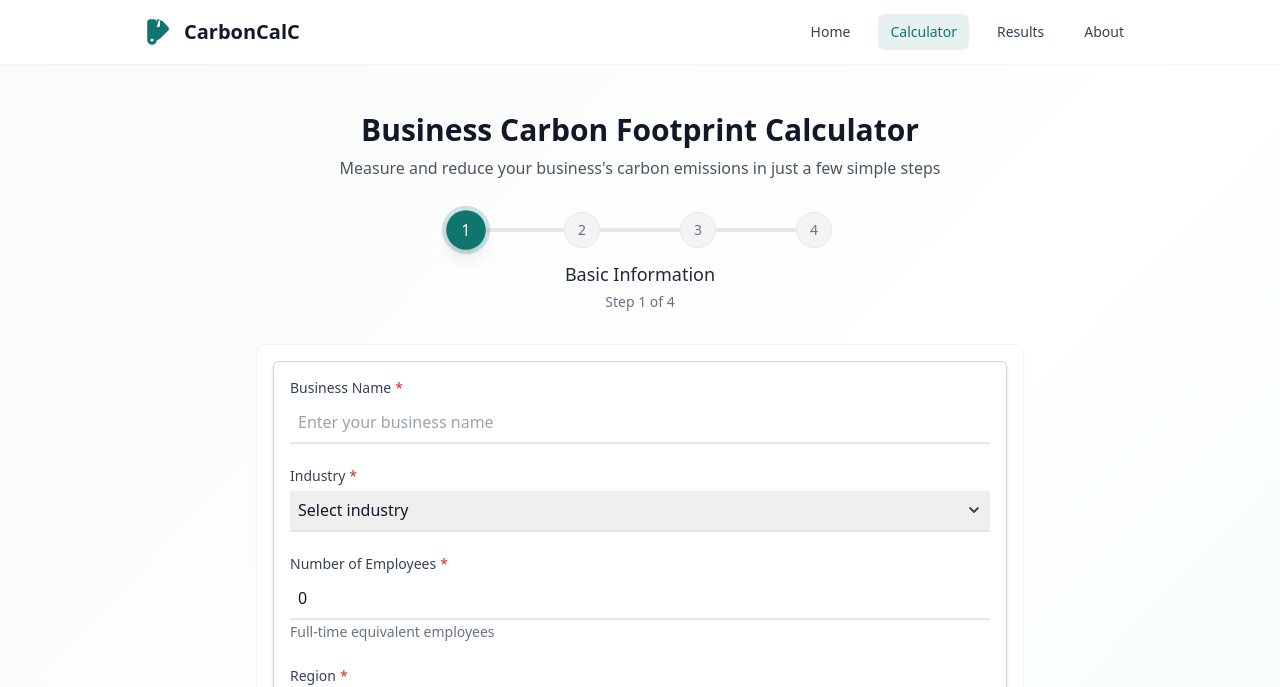
Edge Cases and Boundary Values › should handle special characters in business name
Type "Special & Chars (Corp) #123" into the field with id "name". click: (640, 422)
box: [290,402,990,442]
Select "Technology / IT" in the dropdown with id "industry". click: (640, 510)
box: [290,490,990,530]
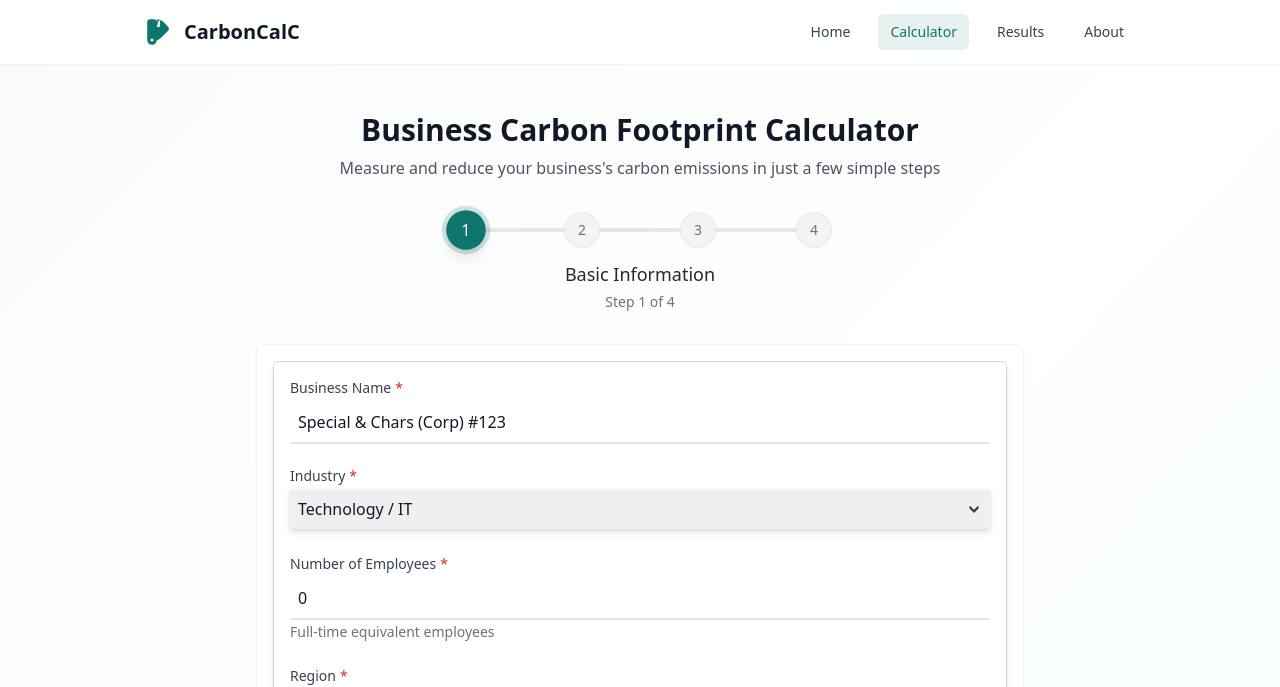
Type "25" into the number field with id "employees". click: (640, 598)
box: [290,578,990,618]
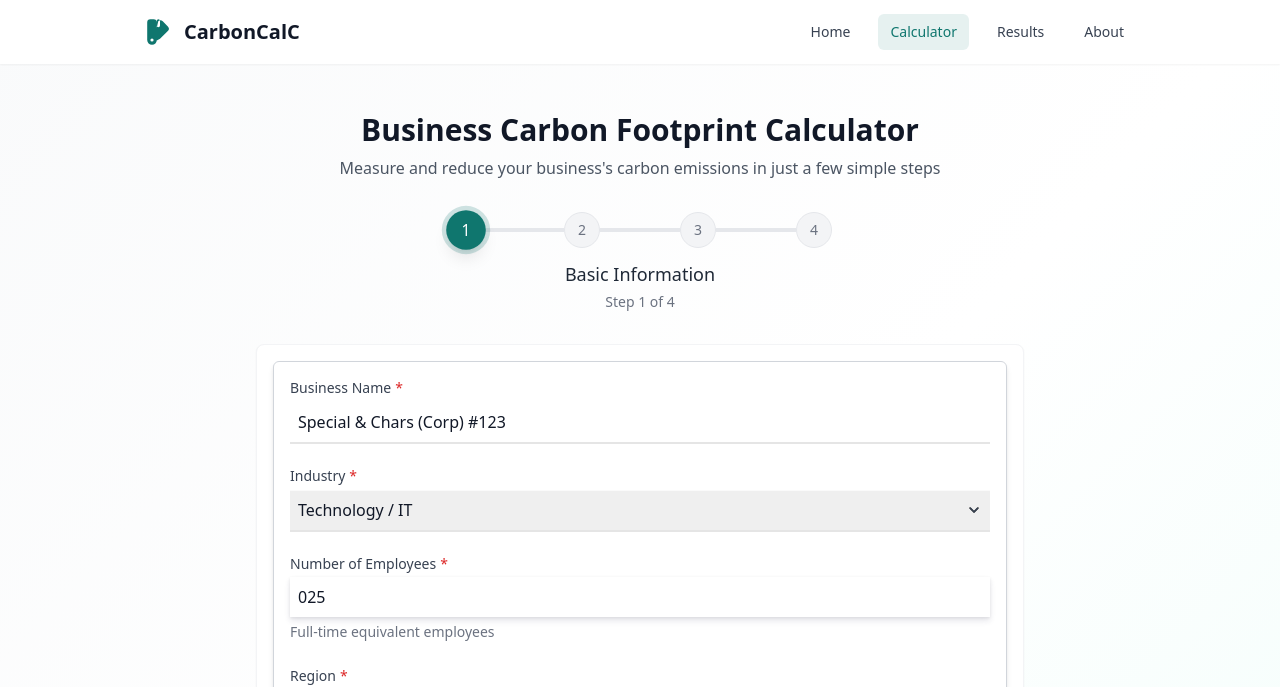
Scroll
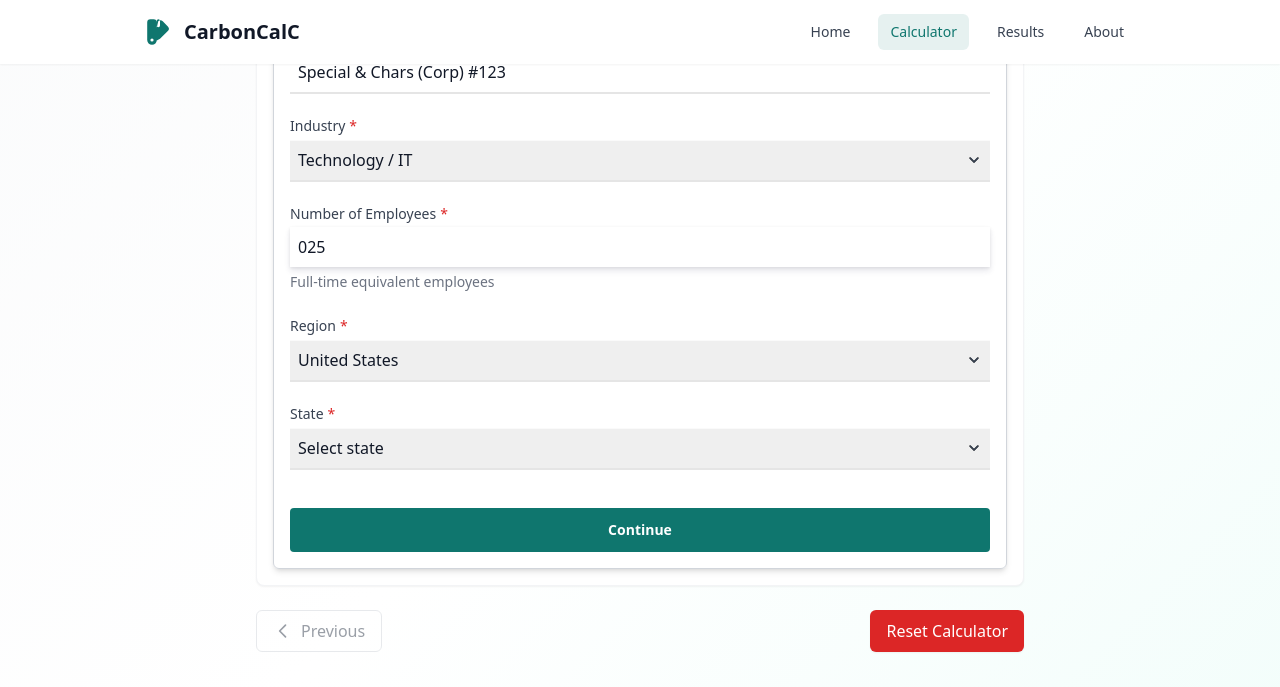
Select "United States" in the dropdown with id "region". click: (640, 360)
box: [290,340,990,380]
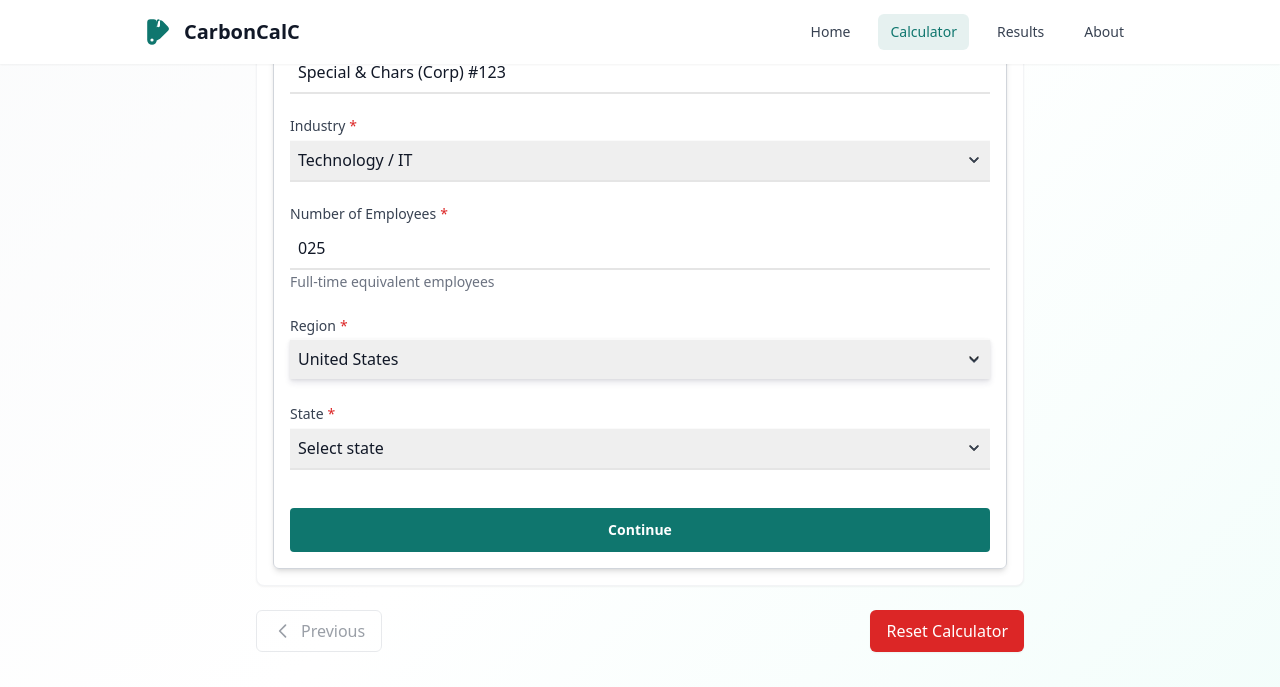
Select "California" in the dropdown with id "state". click: (640, 448)
box: [290,428,990,468]
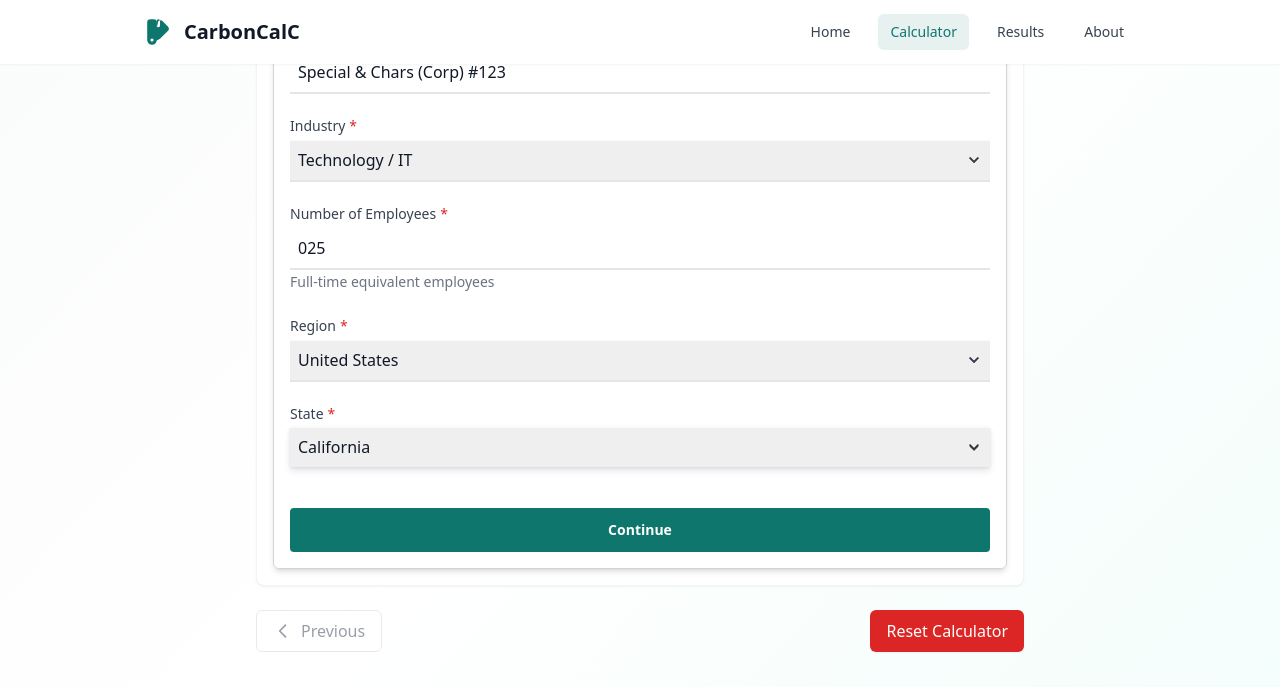
Click the button with id "business-info-continue". click: (640, 530)
box: [290,508,990,552]
(page scrolled)
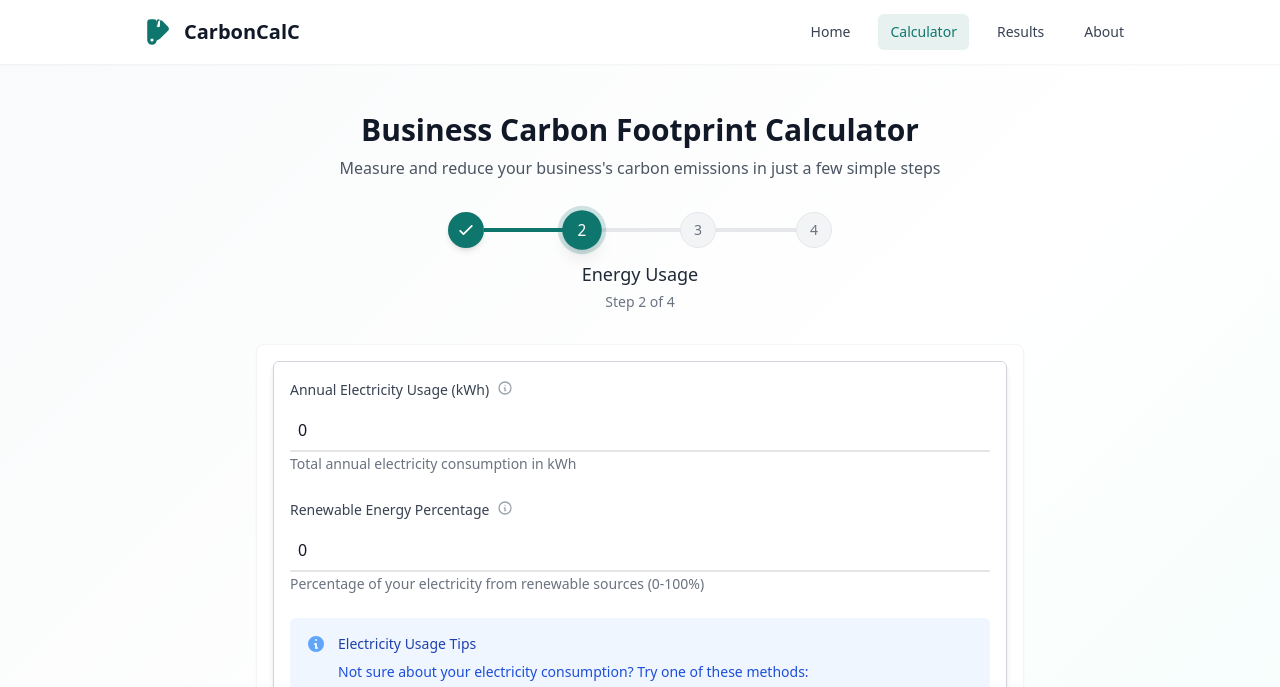
Expected: the number field with id "kwh" is shown, [290,410,990,450]
